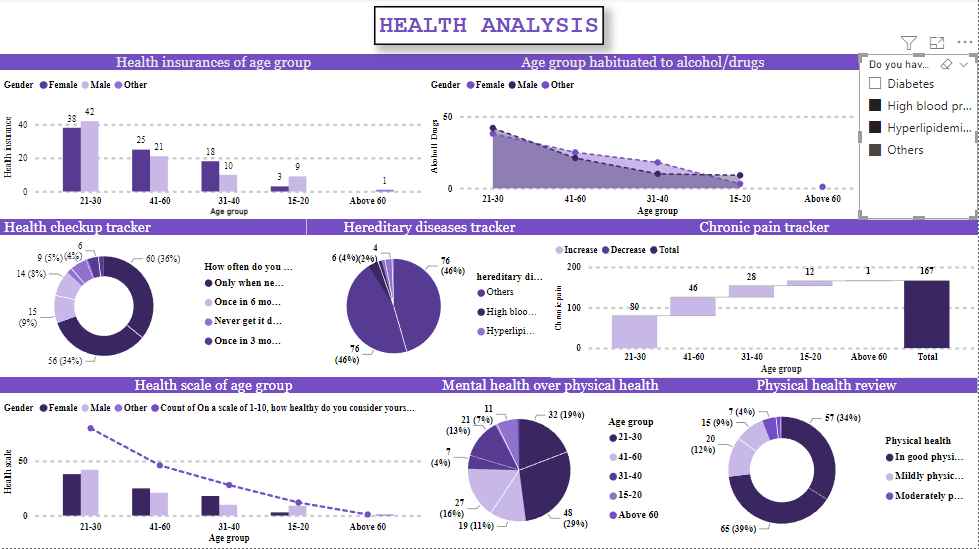

The page's visual inventory and layout, read from the dashboard file:
{"tool":"powerbi","page":{"name":"Page 2","canvas":[1280,720],"ordinal":1},"visuals":[{"type":"areaChart","title":"Age group habituated to alcohol/drugs ","fields":{"Category":["Health Analysis.Age group"],"Y":["CountNonNull(Health Analysis.Are you habituated to alcohol/drugs ?)"],"Series":["Health Analysis.Gender"]},"box":[558.7,72.8,565.5,216.7],"z":0},{"type":"slicer","fields":{"Values":["Health Analysis.Do you have any hereditary conditions/ diseases ?"]},"box":[1124.2,72.8,155.8,216.7],"z":1000},{"type":"clusteredColumnChart","title":"Health insurances of age group","fields":{"Series":["Health Analysis.Gender"],"Category":["Health Analysis.Age group"],"Y":["CountNonNull(Health Analysis.Do you have a health insurance ? )"]},"box":[0,72.8,558.7,216.7],"z":2000},{"type":"pieChart","title":"Hereditary diseases tracker","fields":{"Series":["Health Analysis.Gender"],"Category":["Health Analysis.Do you have any hereditary conditions/ diseases ?"],"Y":["CountNonNull(Health Analysis.Gender)"]},"box":[401.3,289.5,320,206.6],"z":3000},{"type":"donutChart","title":"Health checkup tracker","fields":{"Series":["Health Analysis.Gender"],"Y":["CountNonNull(Health Analysis.Gender)"],"Category":["Health Analysis.How often do you get a health checkup ? "]},"box":[0,289.5,401.3,206.6],"z":4000},{"type":"lineClusteredColumnComboChart","title":"Health scale of age group","fields":{"Category":["Health Analysis.Age group"],"Series":["Health Analysis.Gender"],"Y":["CountNonNull(Health Analysis.On a scale of 1-10, how healthy do you consider yourself ?)"],"Y2":["CountNonNull(Health Analysis.On a scale of 1-10, how healthy do you consider yourself ?)"]},"box":[0,496.1,558.7,223.5],"z":5000},{"type":"donutChart","title":"Physical health review ","fields":{"Y":["CountNonNull(Health Analysis.Gender)"],"Series":["Health Analysis.Gender"],"Category":["Health Analysis.Would you say you are :"]},"box":[883.8,496.1,396.2,223.5],"z":6000},{"type":"pieChart","title":"Mental health over physical health","fields":{"Category":["Health Analysis.Age group"],"Y":["CountNonNull(Health Analysis.Does your mental well being has an affect on your physical health ?)"],"Series":["Health Analysis.Does your mental well being has an affect on your physical health ?"]},"box":[558.3,495.9,325.5,223],"z":7000},{"type":"waterfallChart","title":"Chronic pain tracker ","fields":{"Category":["Health Analysis.Age group"],"Y":["CountNonNull(Health Analysis.Do you experience any chronic pain ?)"]},"box":[721.3,289.5,558.7,208.3],"z":8000},{"type":"shape","box":[489,11.1,300.6,51.3],"z":9000}]}

Visuals, with their boxes in screenshot pixels (x1, y1, x2, y2), scaled from the page's 1280x720 canvas onto the 979x549 screenshot:
"Age group habituated to alcohol/drugs " areaChart: locate(427, 56, 860, 221)
slicer - Health Analysis.Do you have any hereditary conditions/ diseases ?: locate(860, 56, 978, 221)
"Health insurances of age group" clusteredColumnChart: locate(0, 56, 427, 221)
"Hereditary diseases tracker" pieChart: locate(307, 221, 552, 378)
"Health checkup tracker" donutChart: locate(0, 221, 307, 378)
"Health scale of age group" lineClusteredColumnComboChart: locate(0, 378, 427, 548)
"Physical health review " donutChart: locate(676, 378, 978, 548)
"Mental health over physical health" pieChart: locate(427, 378, 676, 548)
"Chronic pain tracker " waterfallChart: locate(552, 221, 978, 380)
shape: locate(374, 8, 604, 48)
